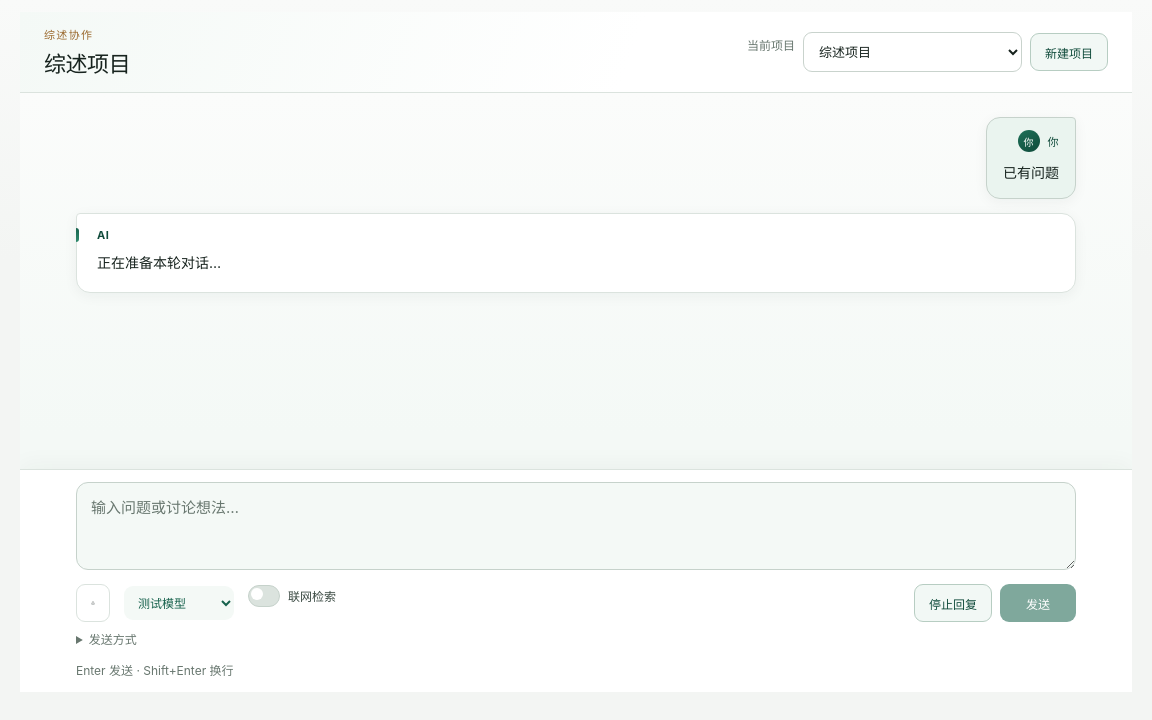
it: project conversation › keeps new input while a reply is active and offers a separate stop control
Type "下一条要求" into the text box named "输入项目问题". click: (576, 526)
box: [76,482,1076,570]
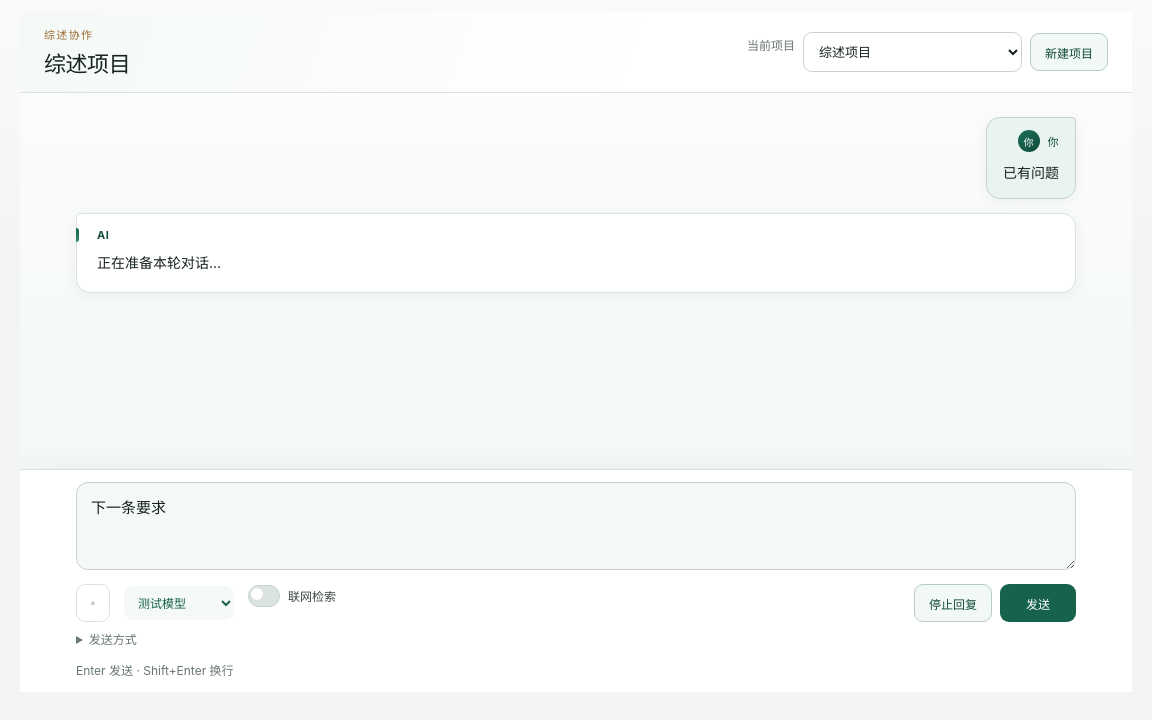
Expected: the button "停止回复" is enabled, [914,584,992,622]
Expected: the button "发送" is enabled, [1000,584,1076,622]
